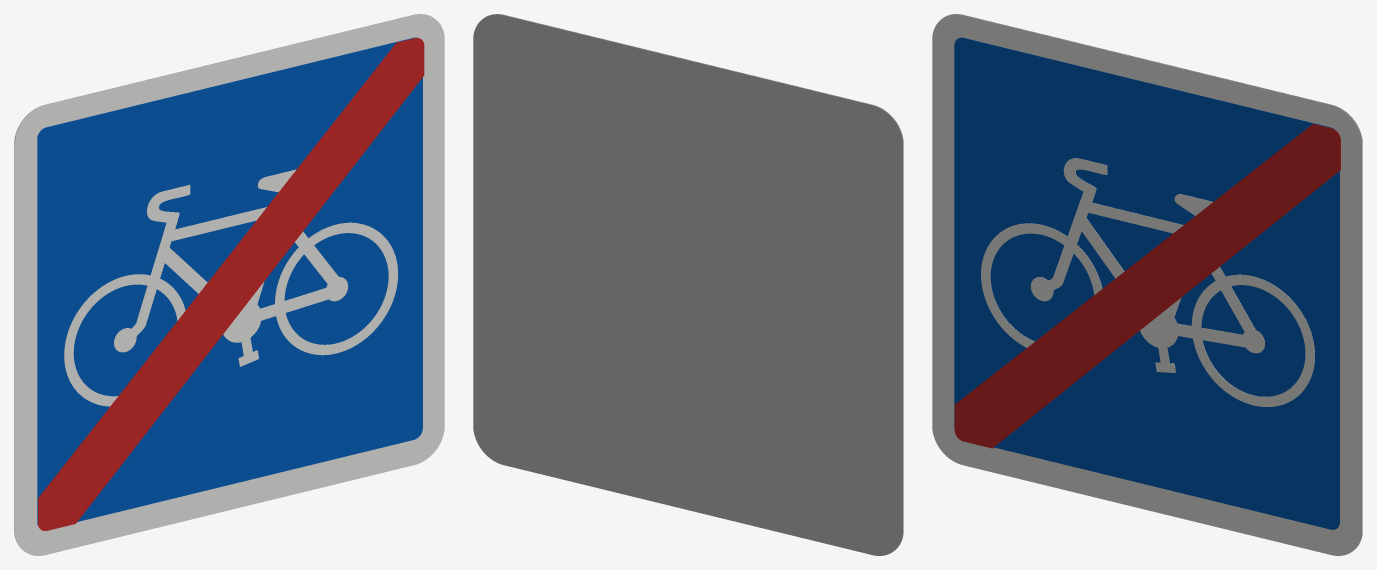
3 views of the same model, side by side, from view 1: azimuth 30°, elevation 25°; view 2: azimuth 150°, elevation 25°; view 3: azimuth 330°, elevation 25° (orthographic).
Visible parts, largest first — view 1: C114_p01, C114_p00, C114_p03, C114_p02, C114_dos; view 2: C114_dos, C114_p00; view 3: C114_p01, C114_p00, C114_p03, C114_p02, C114_dos.
Part boxes in pixels (left/top/right/bottom): C114_p01: left=37, top=37, right=422, bottom=525; C114_p00: left=14, top=14, right=444, bottom=555; C114_p03: left=38, top=38, right=424, bottom=530; C114_p02: left=64, top=169, right=397, bottom=406; C114_dos: left=14, top=14, right=431, bottom=547; C114_dos: left=473, top=14, right=903, bottom=555; C114_p00: left=486, top=14, right=903, bottom=547; C114_p01: left=954, top=37, right=1339, bottom=529; C114_p00: left=932, top=14, right=1362, bottom=555; C114_p03: left=954, top=124, right=1340, bottom=448; C114_p02: left=981, top=158, right=1314, bottom=406; C114_dos: left=945, top=14, right=1362, bottom=547.
Size of the model in its own units: 0.7 by 0.6999 by 0.0031.
